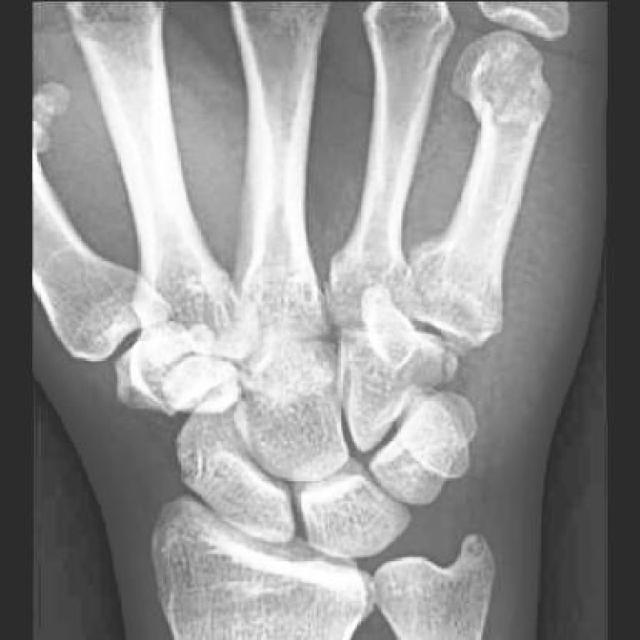Fracture: (422, 328, 476, 396)
